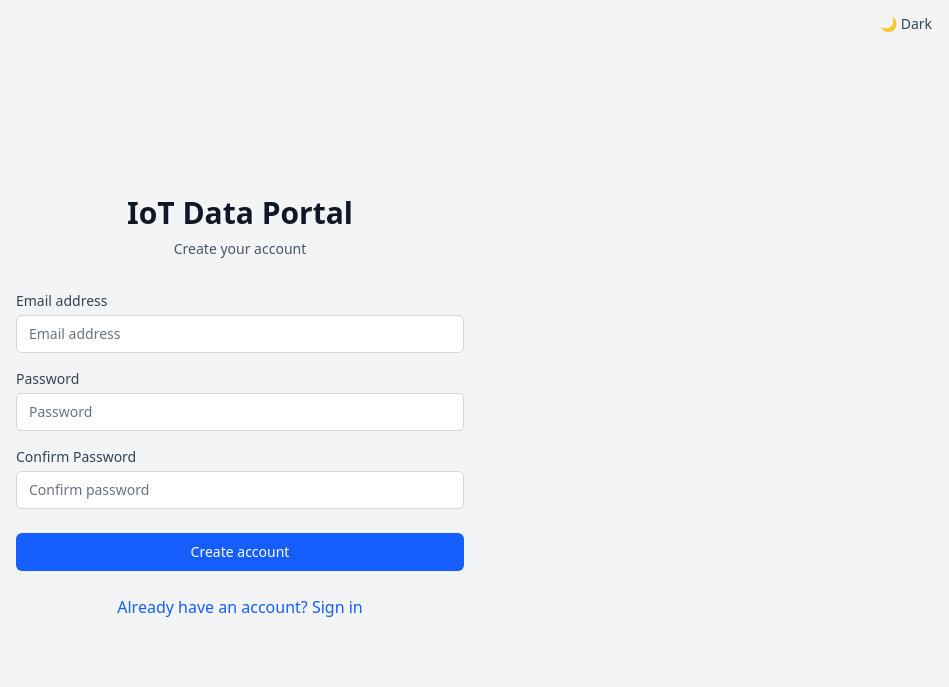
Test: Auth pages › submits register successfully and shows success message
This screenshot has width=949, height=687.
In the field with placeholder "Email address": (240, 334) [16,315,464,353], type "new@example.com"
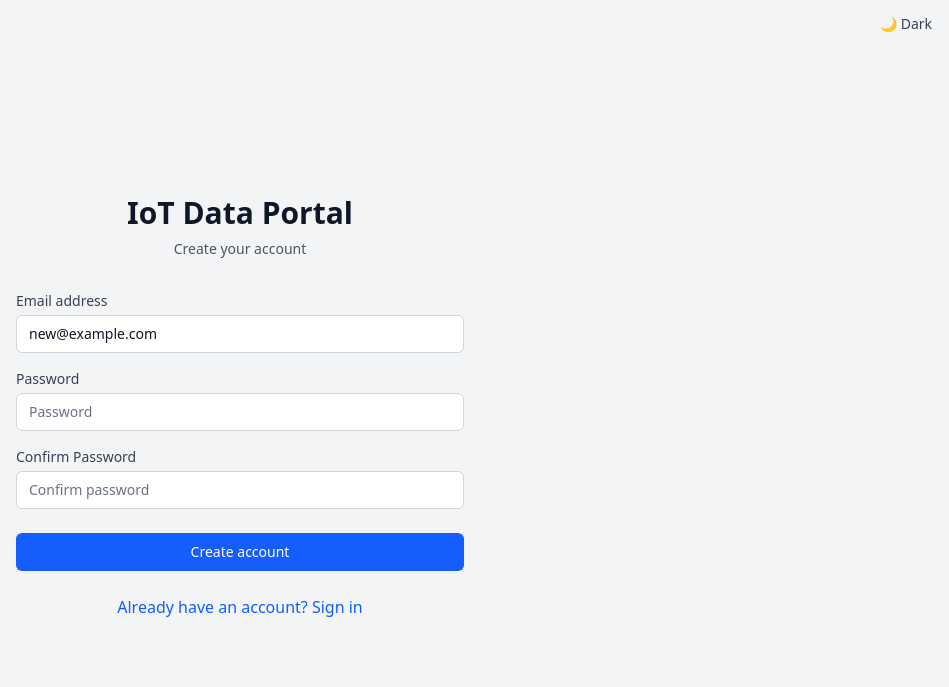
In the password field with placeholder "Password": (240, 412) [16,393,464,431], type "Password1"
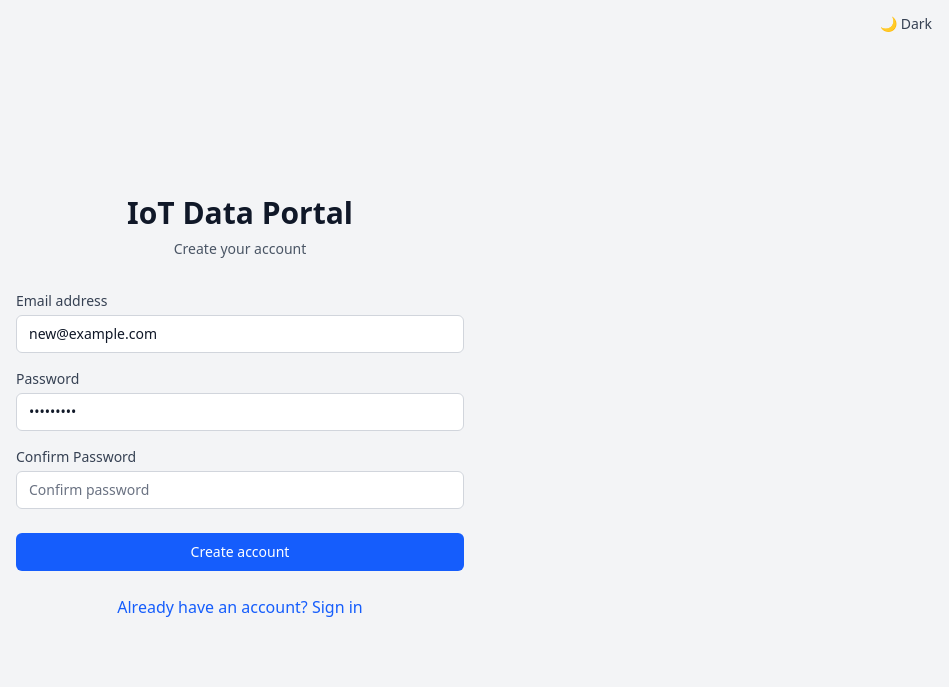
In the password field with placeholder "Confirm password": (240, 490) [16,471,464,509], type "Password1"
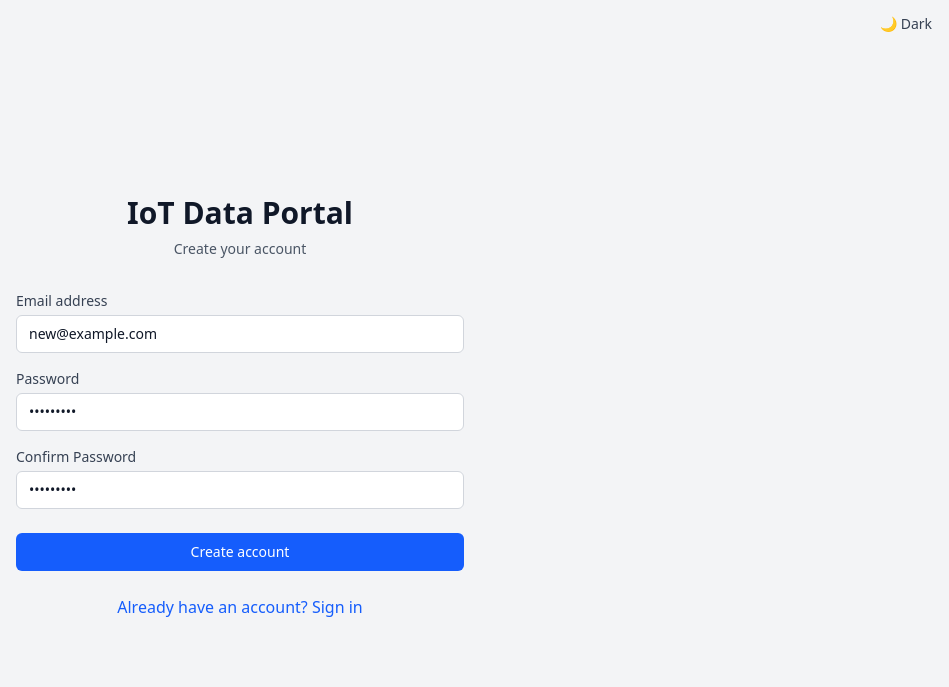
Click the button "Create account": (240, 552) [16,533,464,571]
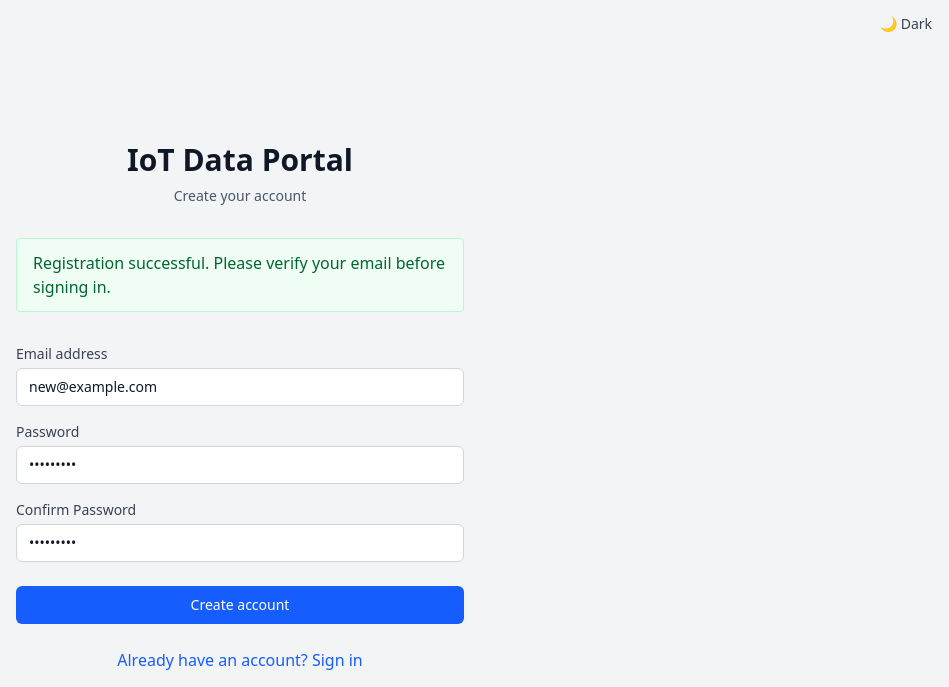
expect the text "Registration successful. Please verify your email before signing in." is shown: met, box [16,238,464,312]
